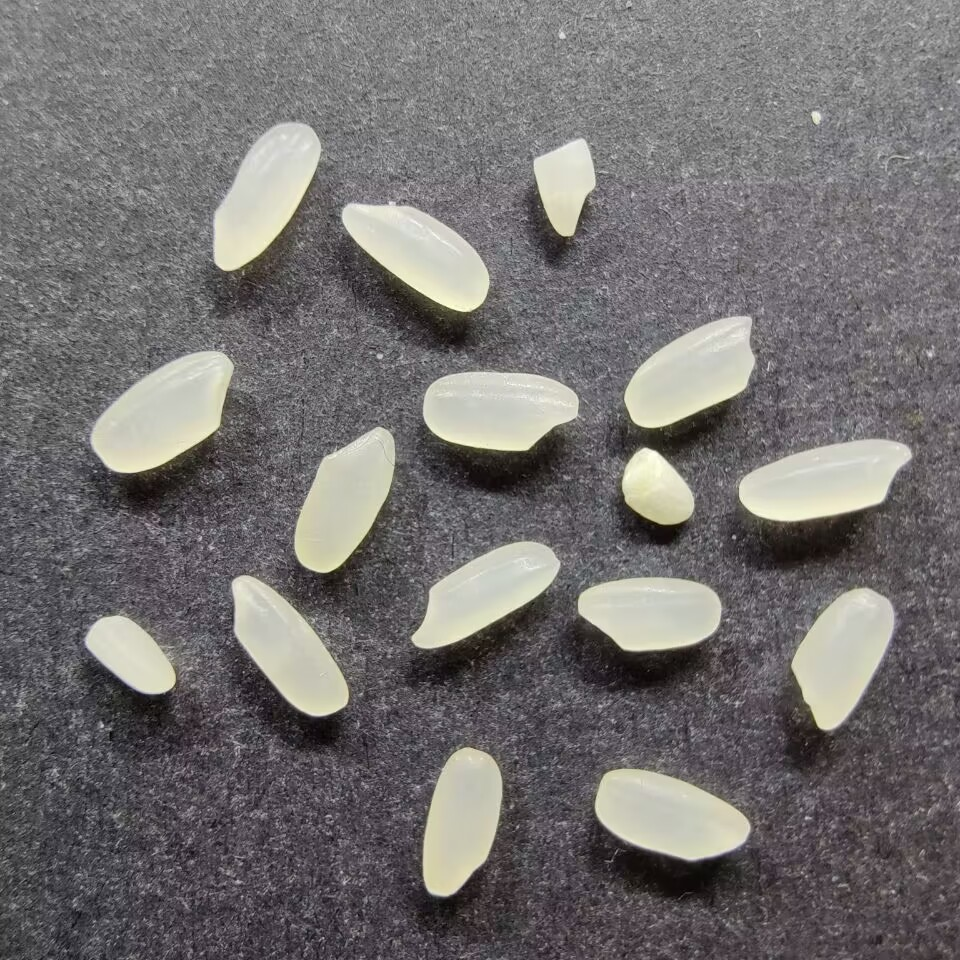broken: (80, 612, 178, 697), (530, 138, 598, 239), (618, 446, 700, 527)
rice: (88, 348, 233, 474), (228, 573, 350, 718), (407, 539, 561, 650), (340, 201, 491, 314), (210, 119, 321, 272), (622, 312, 757, 430), (789, 586, 897, 732), (291, 424, 396, 574), (592, 766, 752, 864), (736, 436, 914, 522), (420, 370, 581, 454), (419, 746, 503, 898), (575, 574, 723, 652)
